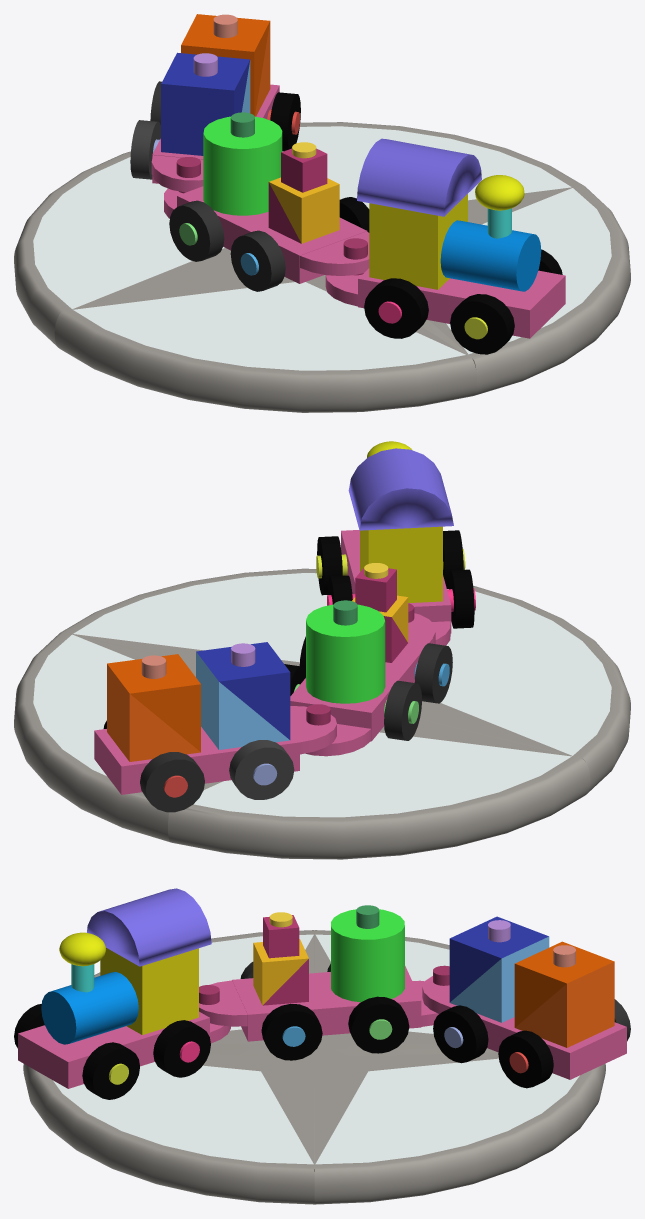
File: trenRA.fbx
3 views of the same model, one above another, from view 1: azimuth 30°, elevation 25°; view 2: azimuth 150°, elevation 25°; view 3: azimuth 270°, elevation 25° (orthographic). The views are drawn at different scales.
Parts seen in each view (by area): view 1: 4 estrellasTren, techo, carga, carga2, locomotora_cilindro, locomotora_base, vagon, carga.001, locomotora2, carga4, locomotora1, rueda2 (+16 smaller); view 2: 4 estrellasTren, carga, techo, locomotora1, carga2, carga.001, carga1, carga3, vagon1, vagon, rueda1.002, rueda6 (+13 smaller); view 3: 4 estrellasTren, techo, carga, locomotora_cilindro, carga1, locomotora_base, vagon, carga.001, carga2, vagon1, locomotora2, carga3 (+19 smaller).
Part boxes in pixels (<box>): 4 estrellasTren: <box>14,122,630,412</box>; techo: <box>357,138,481,216</box>; carga: <box>203,116,282,215</box>; carga2: <box>161,52,250,155</box>; locomotora_cilindro: <box>440,220,541,291</box>; locomotora_base: <box>358,268,565,338</box>; vagon: <box>177,186,367,283</box>; carga.001: <box>181,14,269,116</box>; locomotora2: <box>374,194,467,289</box>; carga4: <box>269,177,339,243</box>; locomotora1: <box>369,203,437,289</box>; rueda2: <box>450,294,514,354</box>; 4 estrellasTren: <box>14,568,630,859</box>; carga: <box>306,604,385,703</box>; techo: <box>348,448,453,530</box>; locomotora1: <box>360,526,442,602</box>; carga2: <box>196,642,290,739</box>; carga.001: <box>107,654,200,751</box>; carga1: <box>107,664,200,761</box>; carga3: <box>196,652,289,749</box>; vagon1: <box>94,727,299,794</box>; vagon: <box>290,634,432,741</box>; rueda1.002: <box>140,752,204,812</box>; rueda6: <box>229,740,294,799</box>; 4 estrellasTren: <box>23,930,605,1204</box>; techo: <box>86,888,211,966</box>; carga: <box>331,909,404,1002</box>; locomotora_cilindro: <box>41,972,138,1044</box>; carga1: <box>515,961,614,1047</box>; locomotora_base: <box>18,1011,209,1088</box>; vagon: <box>232,966,421,1041</box>; carga.001: <box>514,941,614,1027</box>; carga2: <box>449,916,548,1002</box>; vagon1: <box>439,998,626,1079</box>; locomotora2: <box>100,948,194,1034</box>; carga3: <box>450,936,549,1022</box>.
Bounding box in the file's own units: 6 × 2.12 × 6.35.
